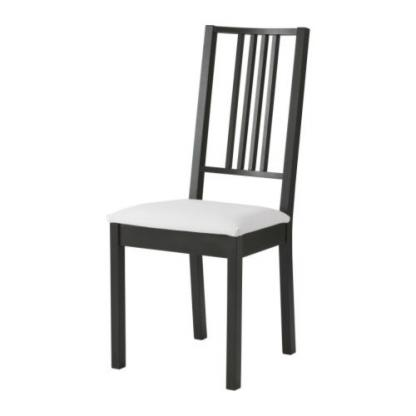Chair: (105, 22, 314, 390)
